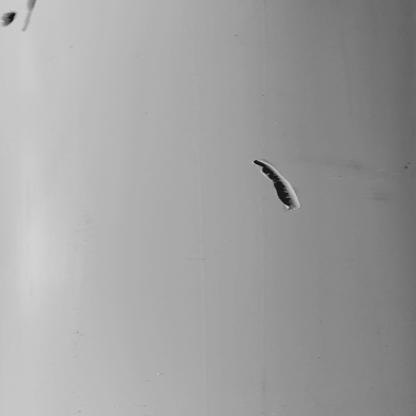kongdong: (258, 146, 307, 217), (1, 1, 36, 34)
